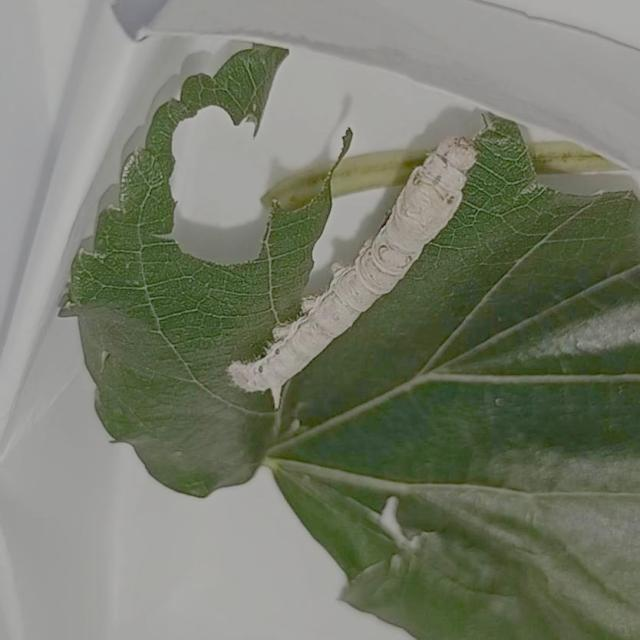Healthy: (172, 116, 532, 422)
